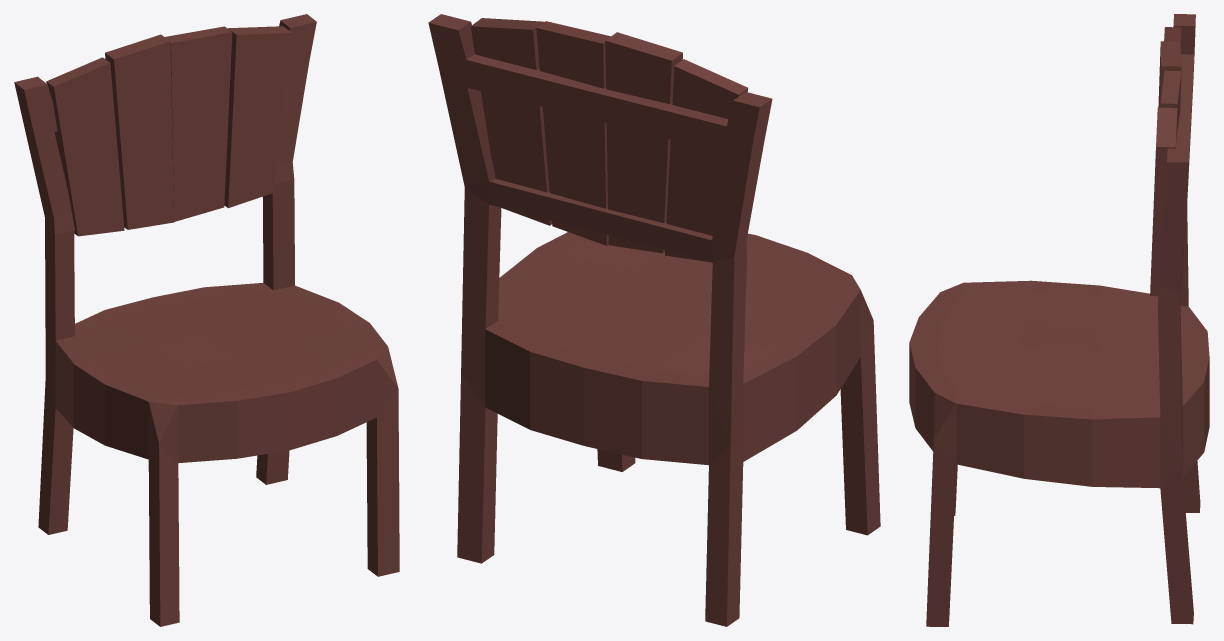
File: Chair.FBX
3 renders of one model, left to right at view 1: azimuth 30°, elevation 25°; view 2: azimuth 150°, elevation 25°; view 3: azimuth 270°, elevation 25°, orthographic. The views are drawn at different scales.
Visible parts, largest first — view 1: Chair_01; view 2: Chair_01; view 3: Chair_01.
Part boxes in pixels (box(x1,y1,x2,y2)): Chair_01: box(14, 14, 399, 626); Chair_01: box(428, 14, 880, 626); Chair_01: box(909, 14, 1209, 626).
Size of the model in its own units: 66.27 by 104 by 56.61.
